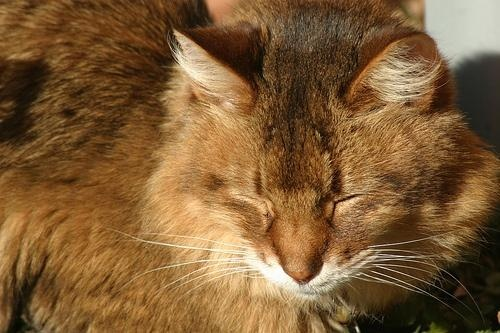cat: (1, 1, 500, 333)
